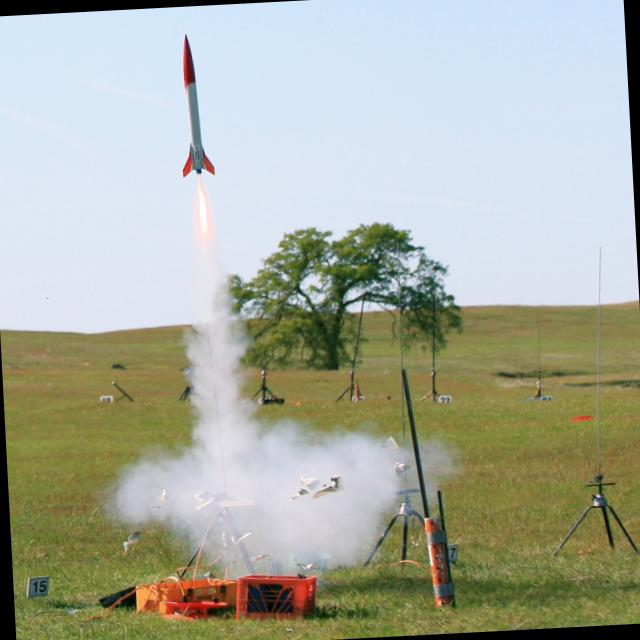rocket: (163, 23, 234, 307)
